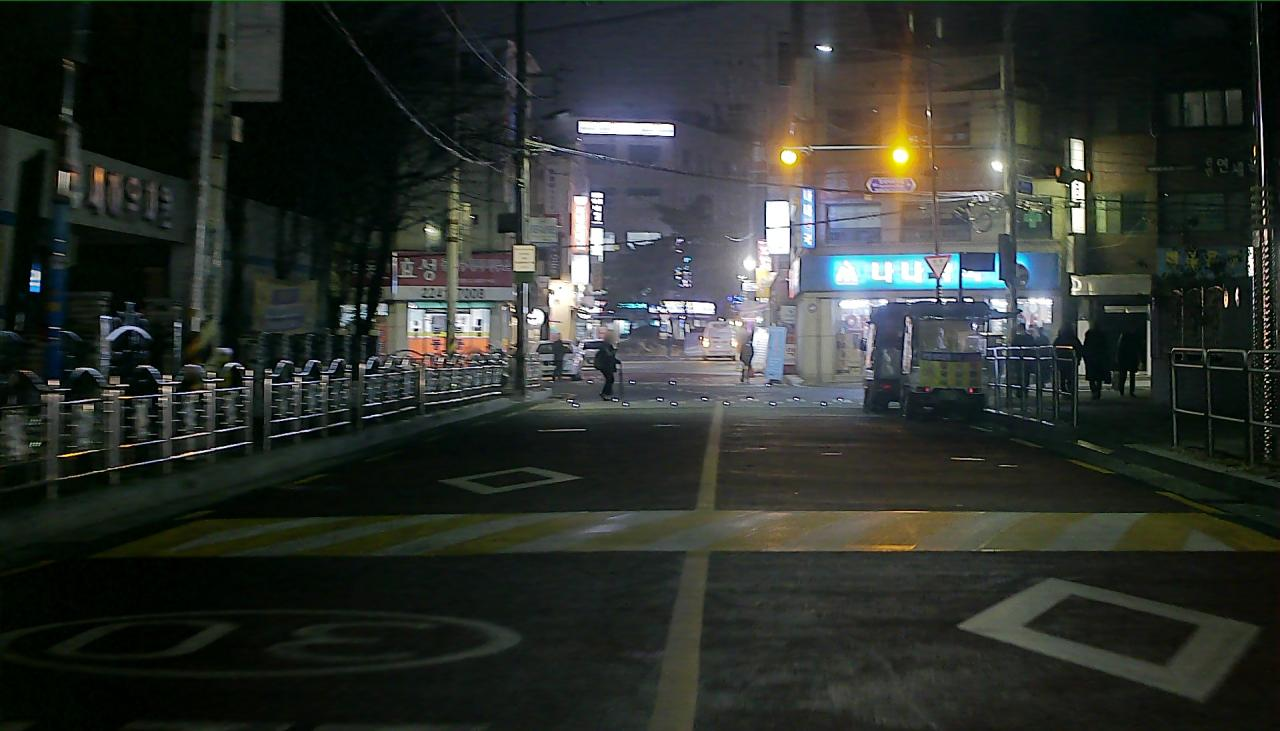Yellow Light: (779, 148, 799, 166), (891, 147, 909, 165)
